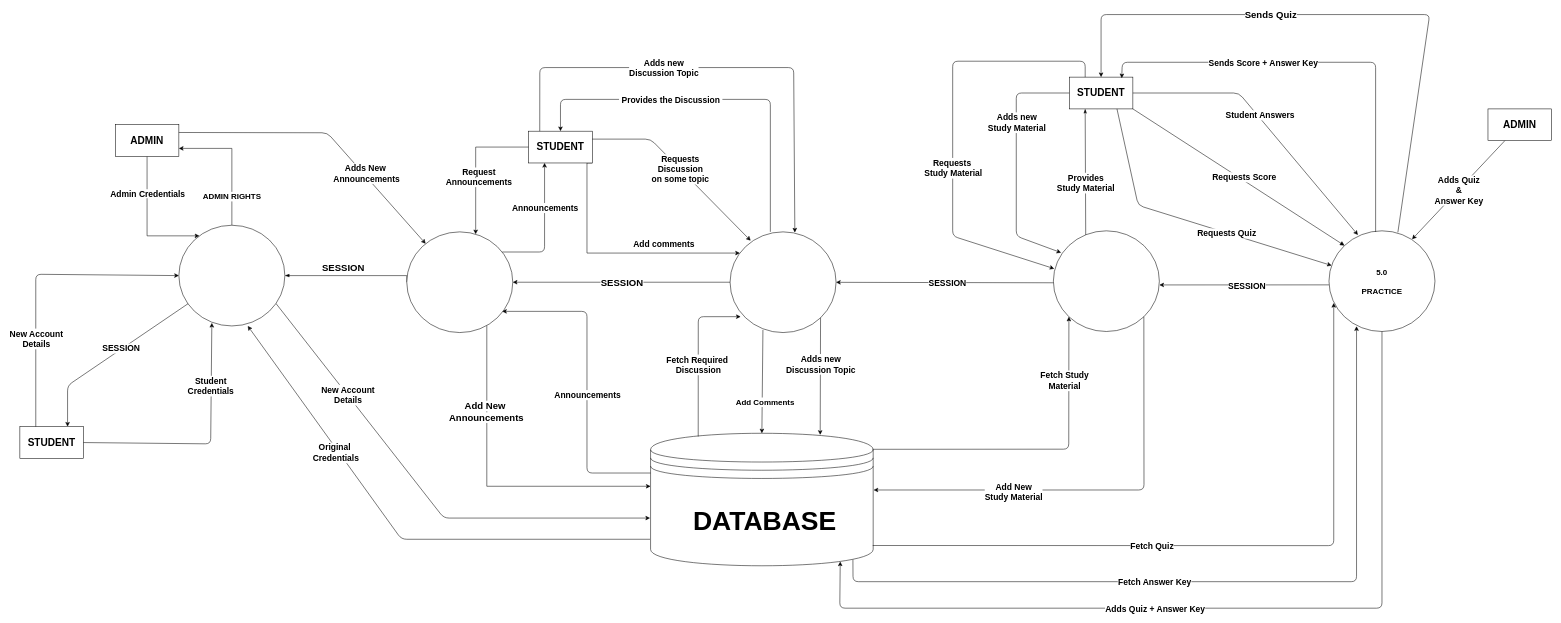
This 1561x623 diagram has some shape labels left out. The centre of each missing label's shape, as x and y in pixels:
1.0 AUTHENTICATION: pixel 231 275
2.0 Announcement Handler: pixel 459 282
3.0 DISCUSSIONS HANDLER: pixel 783 282
4.0 STUDY MATERIAL HANDLER: pixel 1106 281
